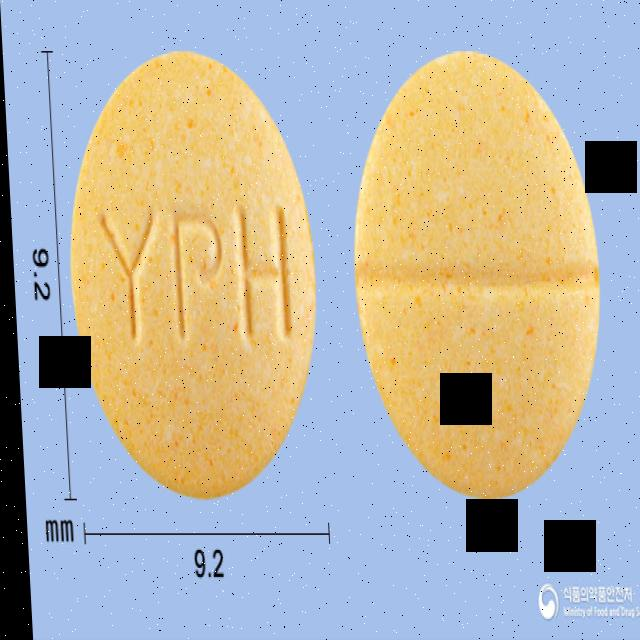Cipoxacin: (59, 48, 321, 500), (345, 49, 607, 500)
